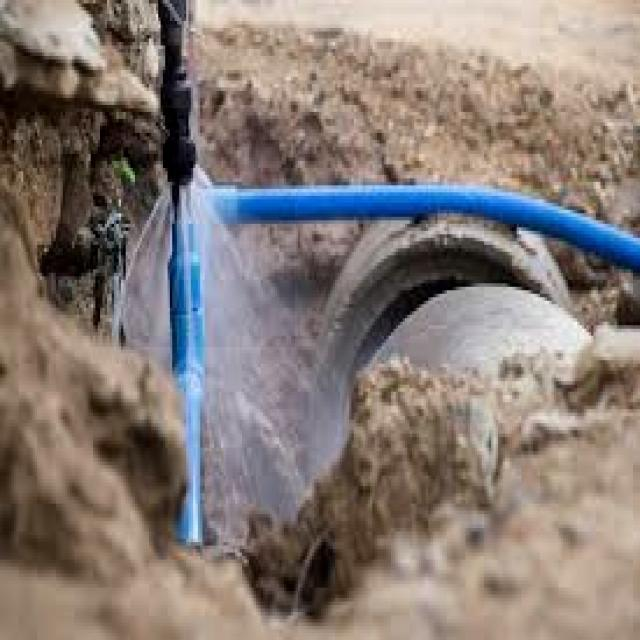corrosion: (130, 134, 248, 274)
